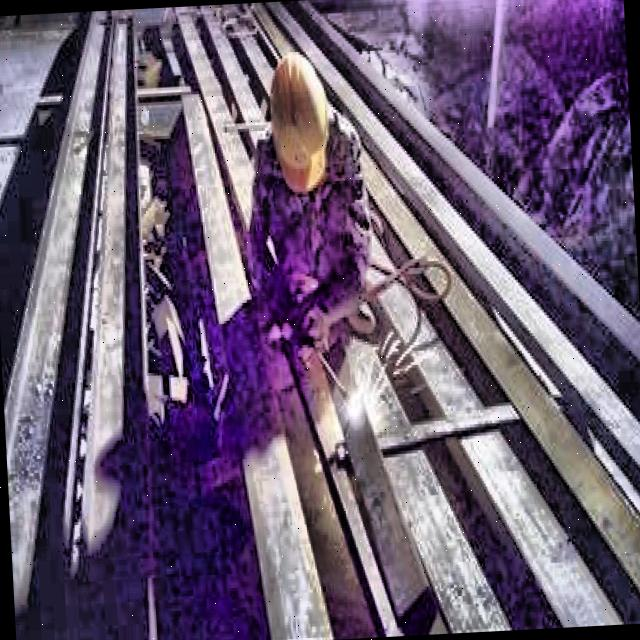helmet: (262, 38, 340, 195)
